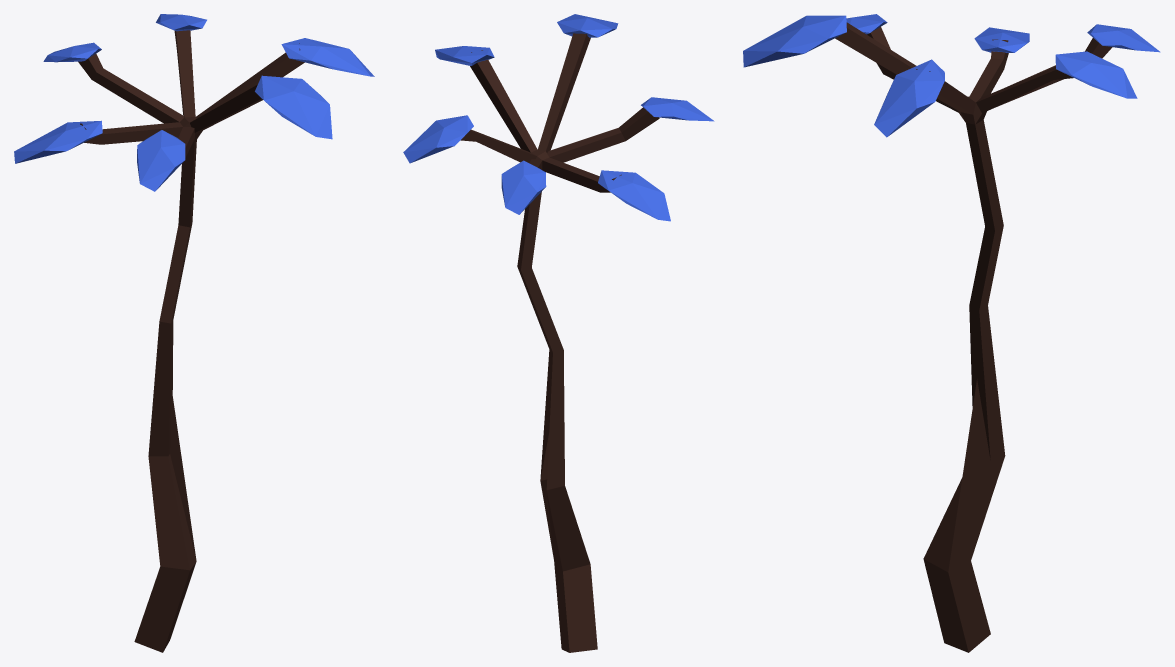
The model's file is tree-1.fbx.
3 renders of one model, left to right at view 1: azimuth 30°, elevation 25°; view 2: azimuth 150°, elevation 25°; view 3: azimuth 270°, elevation 25°, orthographic. The views are drawn at different scales.
Parts seen in each view (by area): view 1: Cube, Icosphere.011, Icosphere.001, Icosphere.002, Icosphere.006, Icosphere.003, Icosphere.005; view 2: Cube, Icosphere.002, Icosphere.005, Icosphere.003, Icosphere.001, Icosphere.011, Icosphere.006; view 3: Cube, Icosphere.006, Icosphere.011, Icosphere.005, Icosphere.003, Icosphere.002.
Boxes of the visible parts, left/top/right/bottom form: Cube: left=78, top=30, right=304, bottom=652; Icosphere.011: left=255, top=75, right=332, bottom=139; Icosphere.001: left=137, top=130, right=185, bottom=191; Icosphere.002: left=14, top=120, right=102, bottom=163; Icosphere.006: left=281, top=38, right=374, bottom=76; Icosphere.003: left=43, top=42, right=101, bottom=62; Icosphere.005: left=156, top=14, right=206, bottom=31; Cube: left=460, top=33, right=659, bottom=652; Icosphere.002: left=598, top=170, right=670, bottom=221; Icosphere.005: left=403, top=115, right=473, bottom=163; Icosphere.003: left=501, top=160, right=546, bottom=214; Icosphere.001: left=641, top=97, right=714, bottom=121; Icosphere.011: left=557, top=14, right=618, bottom=37; Icosphere.006: left=435, top=46, right=494, bottom=65; Cube: left=835, top=22, right=1112, bottom=652; Icosphere.006: left=874, top=59, right=944, bottom=137; Icosphere.011: left=743, top=15, right=846, bottom=67; Icosphere.005: left=1055, top=51, right=1137, bottom=98; Icosphere.003: left=1087, top=24, right=1160, bottom=52; Icosphere.002: left=974, top=27, right=1029, bottom=52.
Size of the model in its own units: 3641 by 6866 by 3960.
